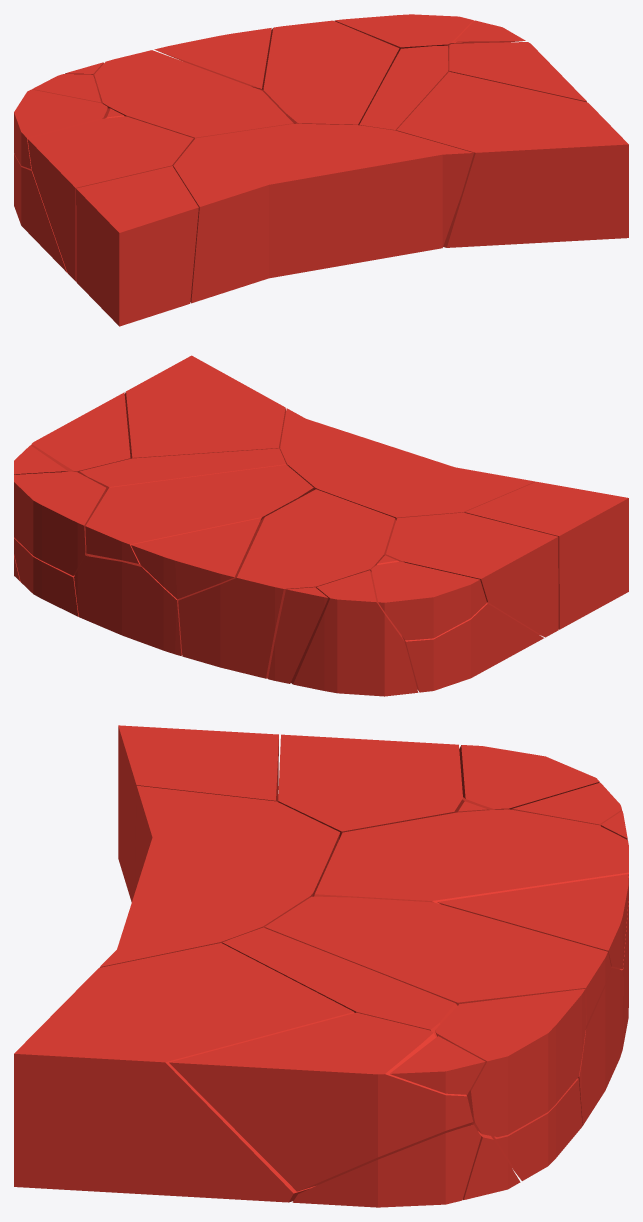
The model's file is Red Obstacle 3 Cracked.fbx.
3 renders of one model, top to bottom at view 1: azimuth 30°, elevation 25°; view 2: azimuth 150°, elevation 25°; view 3: azimuth 270°, elevation 25°, orthographic. The views are drawn at different scales.
Visible parts, largest first — view 1: Red Obstacle 3_cell.008, Red Obstacle 3_cell.005, Red Obstacle 3_cell.006, Red Obstacle 3_cell, Red Obstacle 3_cell.019, Red Obstacle 3_cell.014, Red Obstacle 3_cell.003, Red Obstacle 3_cell.013, Red Obstacle 3_cell.001, Red Obstacle 3_cell.009, Red Obstacle 3_cell.015, Red Obstacle 3_cell.011 (+2 smaller); view 2: Red Obstacle 3_cell.019, Red Obstacle 3_cell.008, Red Obstacle 3_cell.014, Red Obstacle 3_cell, Red Obstacle 3_cell.005, Red Obstacle 3_cell.006, Red Obstacle 3_cell.012, Red Obstacle 3_cell.016, Red Obstacle 3_cell.015, Red Obstacle 3_cell.011, Red Obstacle 3_cell.009, Red Obstacle 3_cell.001 (+5 smaller); view 3: Red Obstacle 3_cell.005, Red Obstacle 3_cell.003, Red Obstacle 3_cell.008, Red Obstacle 3_cell, Red Obstacle 3_cell.019, Red Obstacle 3_cell.014, Red Obstacle 3_cell.015, Red Obstacle 3_cell.006, Red Obstacle 3_cell.013, Red Obstacle 3_cell.007, Red Obstacle 3_cell.001, Red Obstacle 3_cell.009 (+5 smaller).
Part boxes in pixels (<box>): Red Obstacle 3_cell.008: <box>173,123,473,303</box>; Red Obstacle 3_cell.005: <box>396,71,628,247</box>; Red Obstacle 3_cell.006: <box>76,166,198,326</box>; Red Obstacle 3_cell: <box>252,20,399,124</box>; Red Obstacle 3_cell.019: <box>94,50,293,140</box>; Red Obstacle 3_cell.014: <box>27,116,193,281</box>; Red Obstacle 3_cell.003: <box>449,42,586,102</box>; Red Obstacle 3_cell.013: <box>358,45,449,130</box>; Red Obstacle 3_cell.001: <box>154,28,271,88</box>; Red Obstacle 3_cell.009: <box>14,89,107,169</box>; Red Obstacle 3_cell.015: <box>334,14,473,53</box>; Red Obstacle 3_cell.011: <box>14,108,124,272</box>; Red Obstacle 3_cell.019: <box>178,489,395,678</box>; Red Obstacle 3_cell.008: <box>280,408,535,520</box>; Red Obstacle 3_cell.014: <box>386,512,558,637</box>; Red Obstacle 3_cell: <box>85,465,313,567</box>; Red Obstacle 3_cell.005: <box>124,355,285,458</box>; Red Obstacle 3_cell.006: <box>464,481,628,629</box>; Red Obstacle 3_cell.012: <box>290,570,418,696</box>; Red Obstacle 3_cell.016: <box>74,556,182,655</box>; Red Obstacle 3_cell.015: <box>14,471,106,575</box>; Red Obstacle 3_cell.011: <box>377,555,543,692</box>; Red Obstacle 3_cell.009: <box>371,561,486,640</box>; Red Obstacle 3_cell.001: <box>131,518,261,599</box>; Red Obstacle 3_cell.005: <box>14,943,354,1202</box>; Red Obstacle 3_cell.003: <box>169,1012,473,1191</box>; Red Obstacle 3_cell.008: <box>99,785,340,967</box>; Red Obstacle 3_cell: <box>265,896,611,1025</box>; Red Obstacle 3_cell.019: <box>314,809,628,1043</box>; Red Obstacle 3_cell.014: <box>278,734,462,839</box>; Red Obstacle 3_cell.015: <box>435,989,585,1136</box>; Red Obstacle 3_cell.006: <box>118,725,278,902</box>; Red Obstacle 3_cell.013: <box>222,927,457,1037</box>; Red Obstacle 3_cell.007: <box>292,1124,480,1207</box>; Red Obstacle 3_cell.001: <box>437,874,628,969</box>; Red Obstacle 3_cell.009: <box>459,745,599,809</box>.
Bounding box in the file's own units: 80.62 × 14.34 × 60.03.
